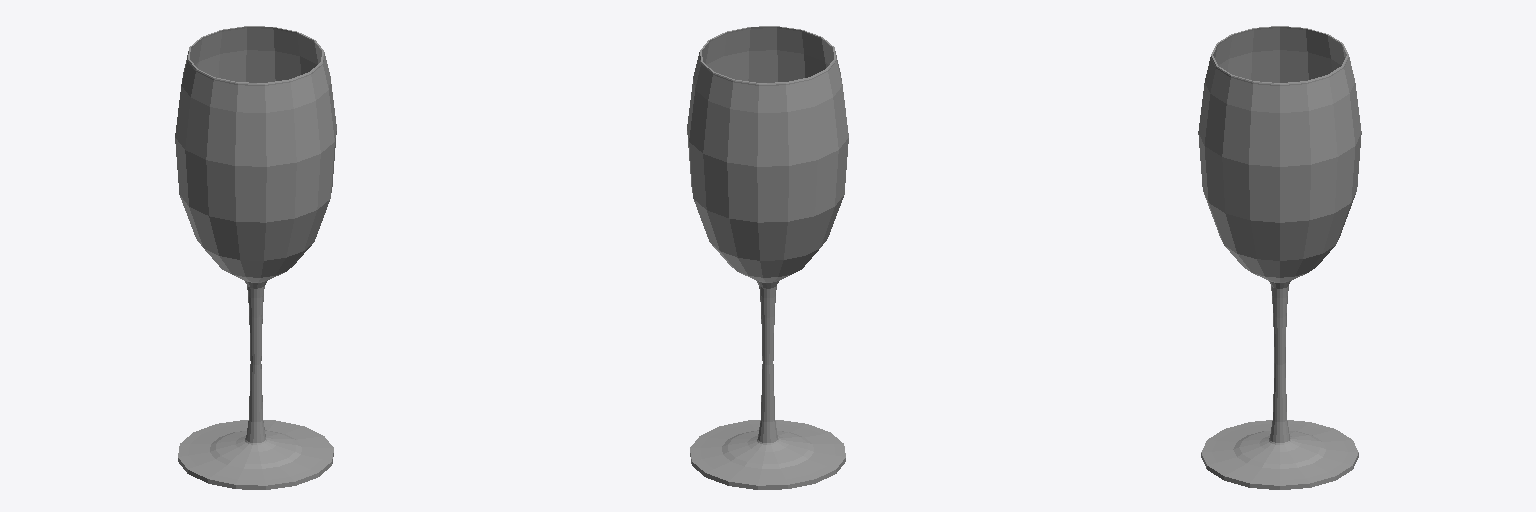
The model's file is glass-a04.obj.
3 renders of one model, left to right at view 1: azimuth 30°, elevation 25°; view 2: azimuth 150°, elevation 25°; view 3: azimuth 270°, elevation 25°, orthographic.
Visible parts, largest first — view 1: Circle; view 2: Circle; view 3: Circle.
Part boxes in pixels (bbox=[...]): Circle: bbox=[175, 26, 336, 489]; Circle: bbox=[687, 26, 848, 489]; Circle: bbox=[1198, 26, 1361, 489].
Size of the model in its own units: 0.3598 by 0.9772 by 0.3598.